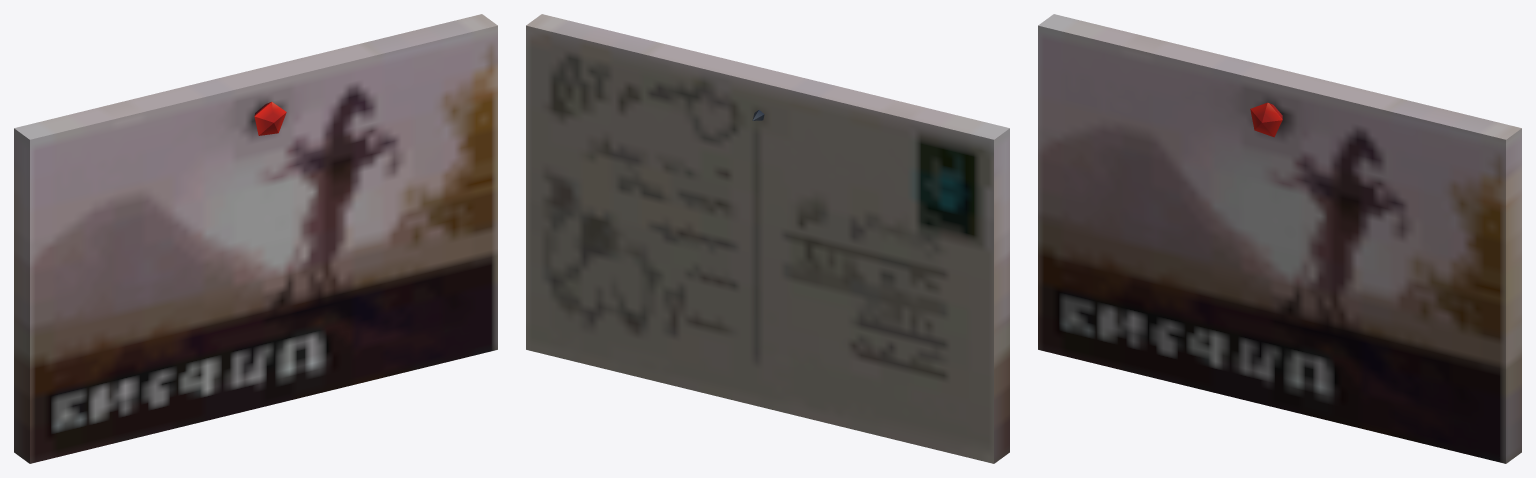
The model's file is postal3.4.fbx.
The picture shows the model from 3 angles, left to right: view 1: azimuth 30°, elevation 25°; view 2: azimuth 150°, elevation 25°; view 3: azimuth 330°, elevation 25°; orthographic projection.
Visible parts, largest first — view 1: s4studio_mesh_0; view 2: s4studio_mesh_0; view 3: s4studio_mesh_0.
Boxes of the visible parts, x1,y1,x2,y2 form: s4studio_mesh_0: [14, 14, 497, 463]; s4studio_mesh_0: [526, 14, 1009, 463]; s4studio_mesh_0: [1038, 14, 1521, 463].
Bounding box in the file's own units: 24.03 × 15.9 × 2.99.
Materials: 1 (1 with a texture image).
